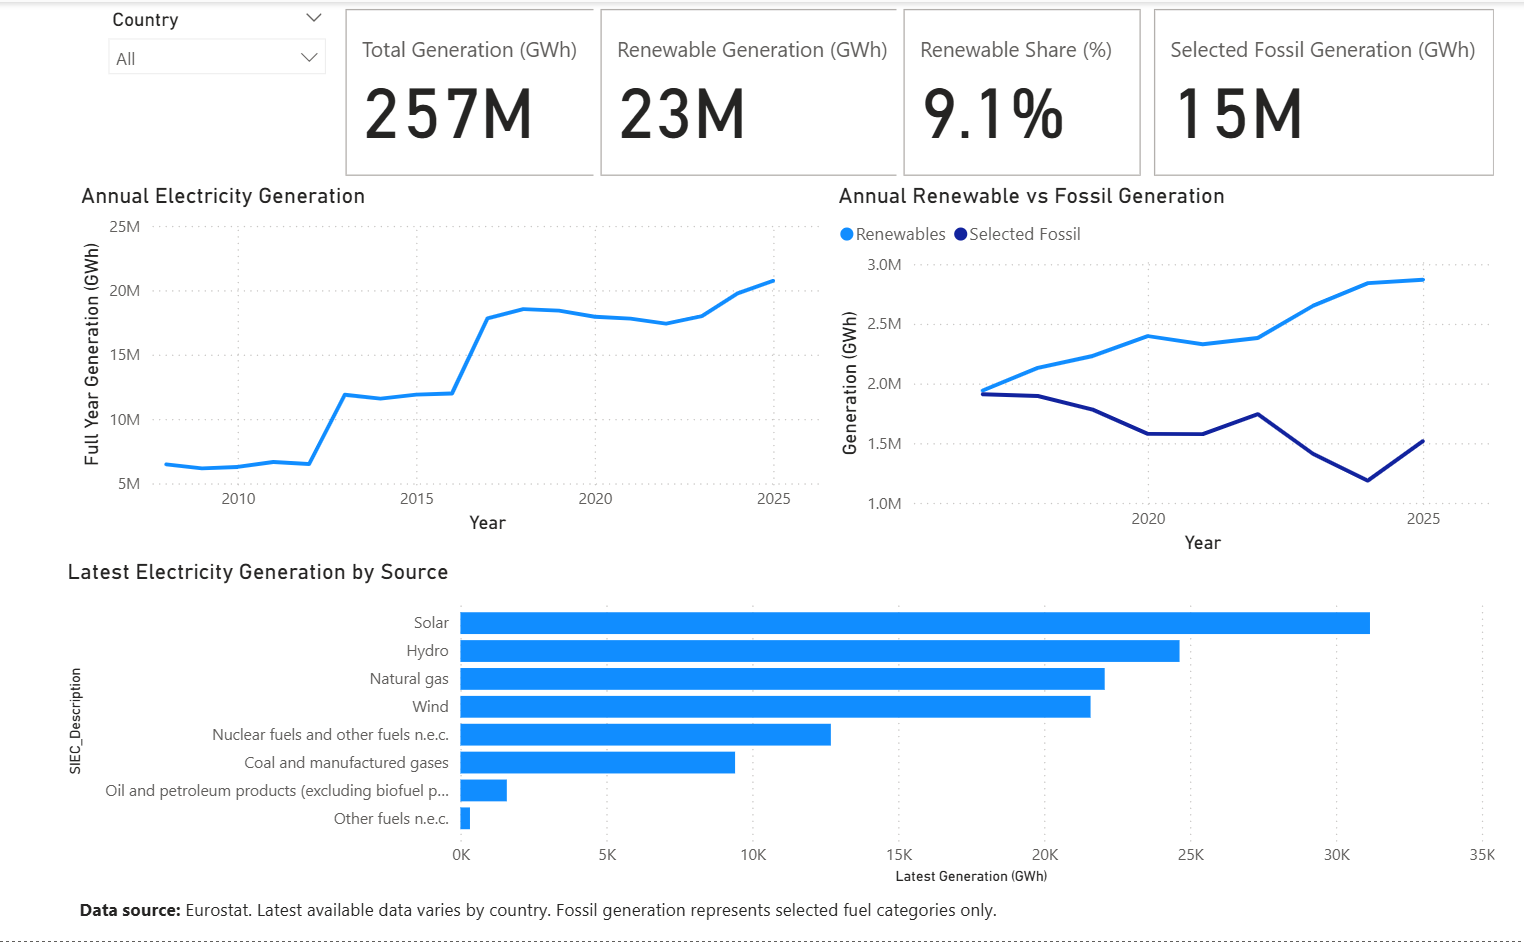

Layout of this report page (visuals, bound fields, positions):
{"tool":"powerbi","page":{"name":"Executive Overview","canvas":[1280,720],"ordinal":0},"visuals":[{"type":"cardVisual","fields":{"Data":["fact_electricity_generation.Total Generation (GWh)"]},"box":[261.1,0,208.2,138],"z":0},{"type":"cardVisual","fields":{"Data":["fact_electricity_generation.Renewable Generation (GWh)"]},"box":[456.7,0,242.7,138],"z":1000},{"type":"cardVisual","fields":{"Data":["fact_electricity_generation.Renewable Share (%)"]},"box":[689.1,0,192.1,138],"z":2000},{"type":"cardVisual","fields":{"Data":["fact_electricity_generation.Fossil Generation (GWh)"]},"box":[881.2,0,271.5,138],"z":3000},{"type":"lineChart","title":"Annual Electricity Generation","fields":{"Category":["dim_date.Year"],"Y":["fact_electricity_generation.Full Year Generation (GWh)"]},"box":[58.7,138,581,273.8],"z":4000},{"type":"slicer","fields":{"Values":["dim_country.Country_Name"]},"box":[74.8,0,186.4,77.1],"z":5000},{"type":"lineChart","title":"Annual Renewable vs Fossil Generation","fields":{"Category":["dim_date.Year"],"Y":["fact_electricity_generation.Full Year Renewable Generation (GWh)","fact_electricity_generation.Full Year Fossil Generation (GWh)"]},"box":[639.6,138,513.1,288.8],"z":6000},{"type":"clusteredBarChart","title":"Latest Electricity Generation by Source","fields":{"Category":["dim_energy_source.SIEC_Description"],"Y":["fact_electricity_generation.Latest Generation (GWh)"]},"box":[48.3,426.8,1104.4,254.2],"z":7000},{"type":"textbox","box":[57.5,681,906.5,39.1],"z":8000}]}

Visuals, with their boxes on the page's 1280x720 design canvas (x1, y1, x2, y2). These are canvas units, not pixel positions in the 1524x942 screenshot, which may show the page scaled, cropped or inside an application window:
cardVisual - fact_electricity_generation.Total Generation (GWh): left=261, top=0, right=469, bottom=138
cardVisual - fact_electricity_generation.Renewable Generation (GWh): left=457, top=0, right=699, bottom=138
cardVisual - fact_electricity_generation.Renewable Share (%): left=689, top=0, right=881, bottom=138
cardVisual - fact_electricity_generation.Fossil Generation (GWh): left=881, top=0, right=1153, bottom=138
"Annual Electricity Generation" lineChart: left=59, top=138, right=640, bottom=412
slicer - dim_country.Country_Name: left=75, top=0, right=261, bottom=77
"Annual Renewable vs Fossil Generation" lineChart: left=640, top=138, right=1153, bottom=427
"Latest Electricity Generation by Source" clusteredBarChart: left=48, top=427, right=1153, bottom=681
textbox: left=58, top=681, right=964, bottom=720
